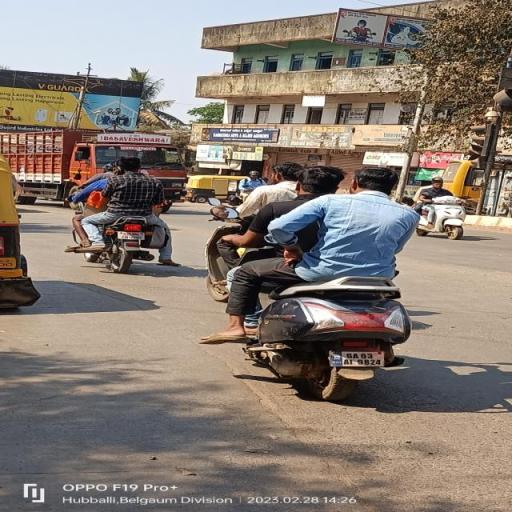bike: (214, 163, 426, 402)
numberplate: (332, 349, 390, 367)
withouthelmet: (352, 167, 396, 191), (301, 166, 344, 190)
